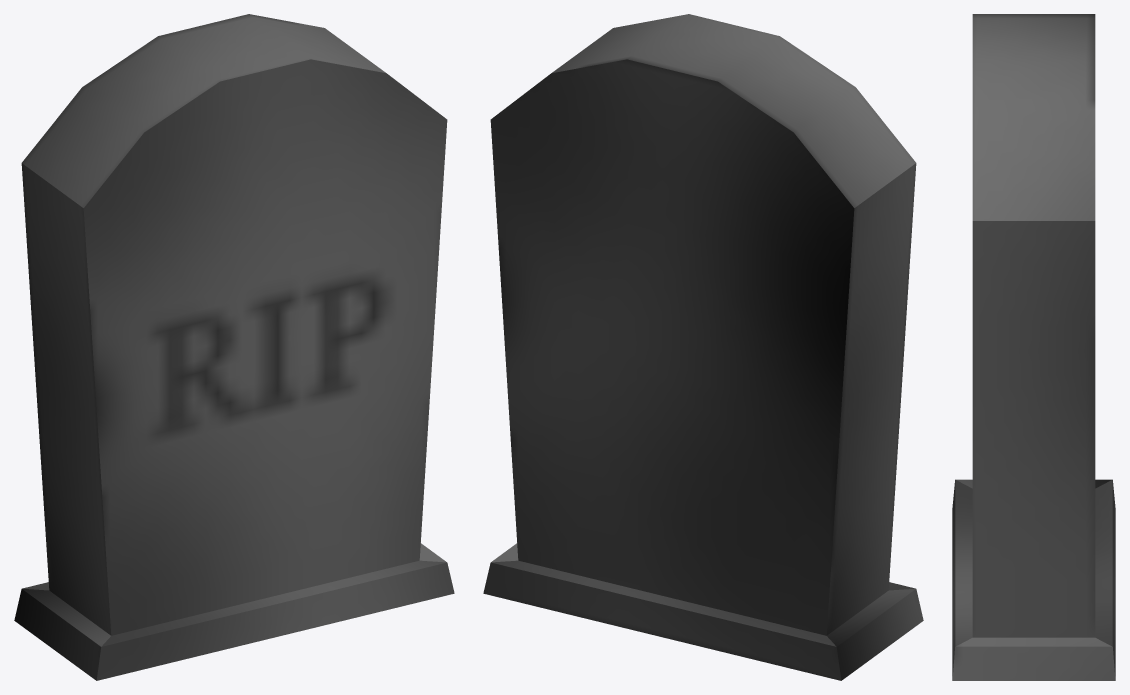
The model's file is Tumulo_1.glb.
3 renders of one model, left to right at view 1: azimuth 30°, elevation 25°; view 2: azimuth 150°, elevation 25°; view 3: azimuth 270°, elevation 25°, orthographic.
Parts seen in each view (by area): view 1: Tumulo.1; view 2: Tumulo.1; view 3: Tumulo.1.
Boxes of the visible parts, x1,y1,x2,y2 form: Tumulo.1: (14, 14, 454, 680); Tumulo.1: (483, 14, 923, 680); Tumulo.1: (952, 14, 1115, 680).
Bounding box in the file's own units: 0.3785 × 0.5563 × 0.1484.
1 material, 1 textured.
